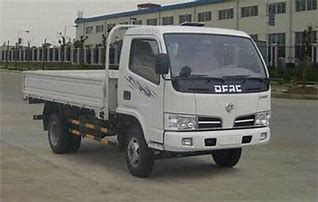smalltruck: (17, 20, 286, 177)
